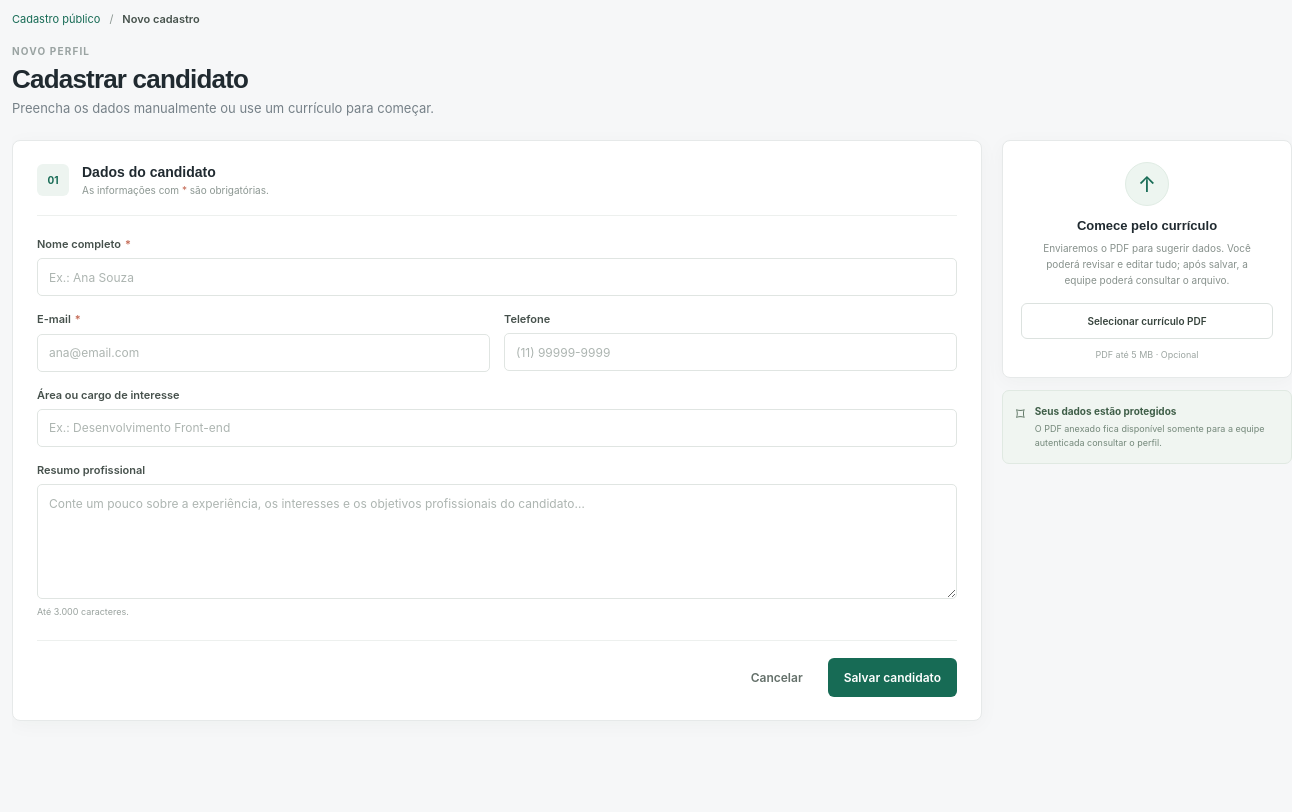
formulário de cadastro › confirma o cadastro público sem abrir os dados do candidato
In the field labelled "Nome completo *": [497, 277] box [37, 258, 957, 296], type "Ana Silva"
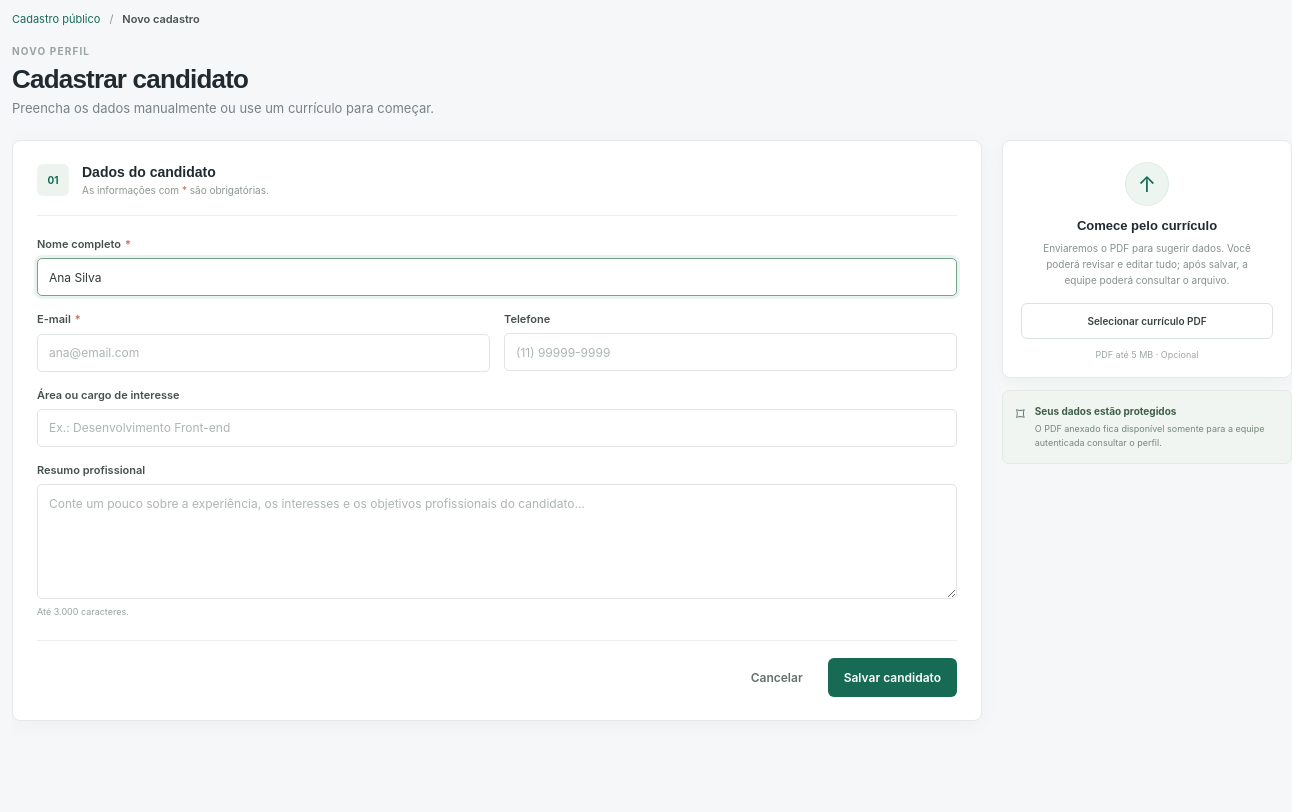
In the field labelled "E-mail *": [264, 353] box [37, 334, 490, 372], type "ana@example.com"
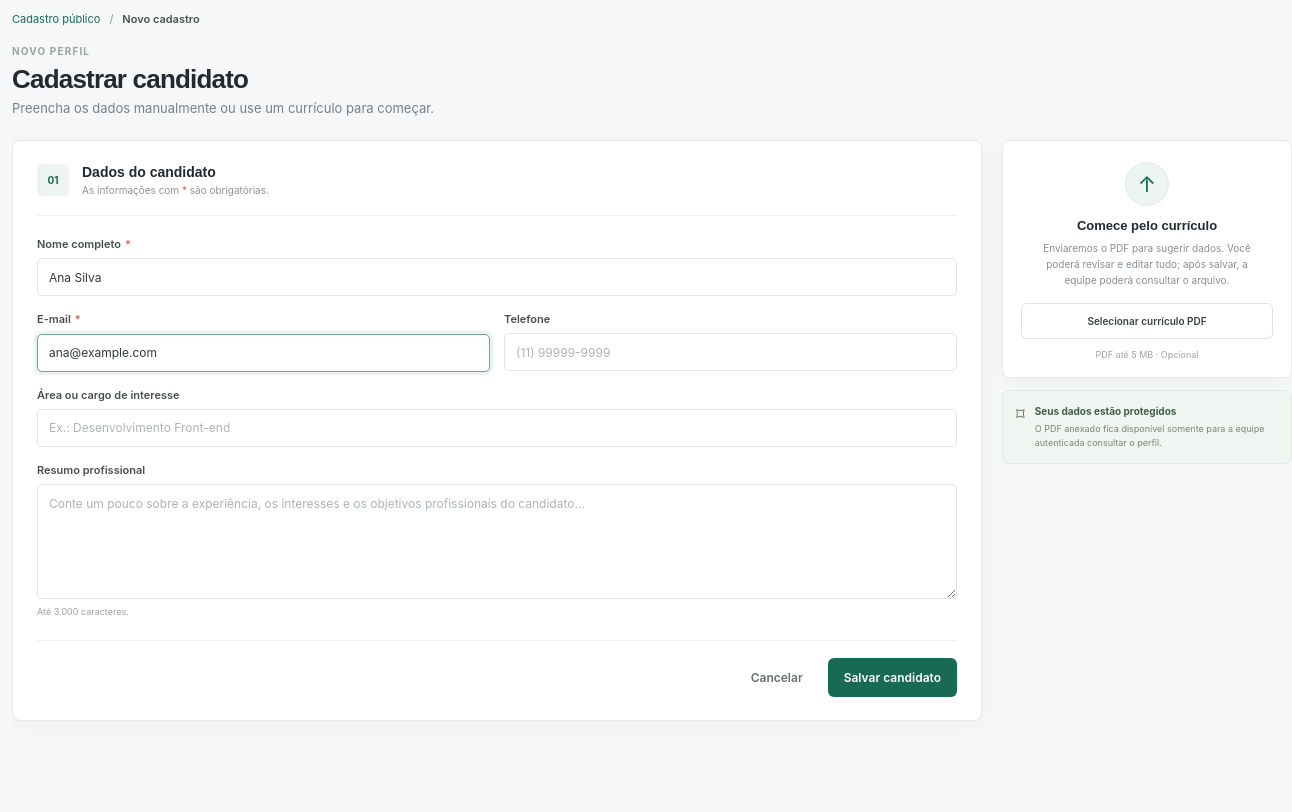
Click the button "Salvar candidato": [892, 677] box [828, 658, 957, 697]
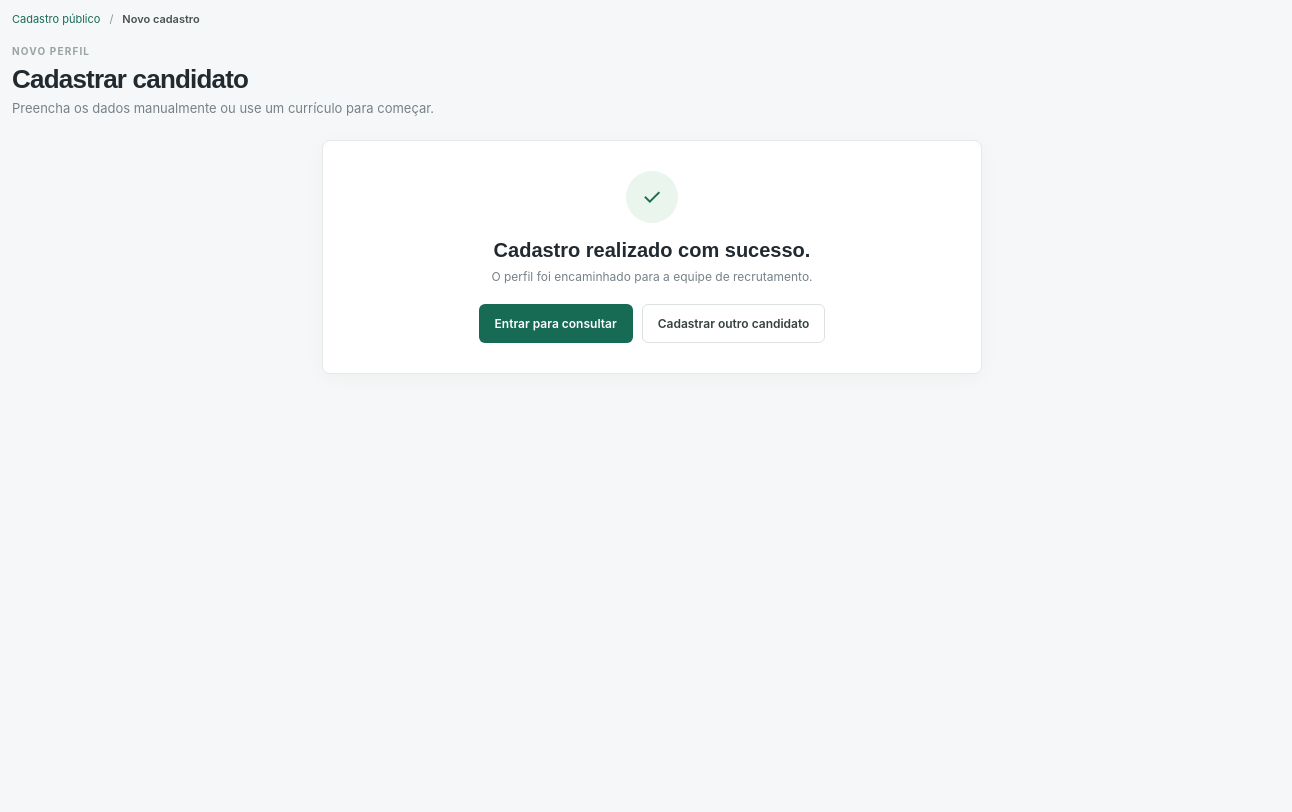
Expected: the message shows "Cadastro realizado com sucesso", [494, 239, 810, 261]
